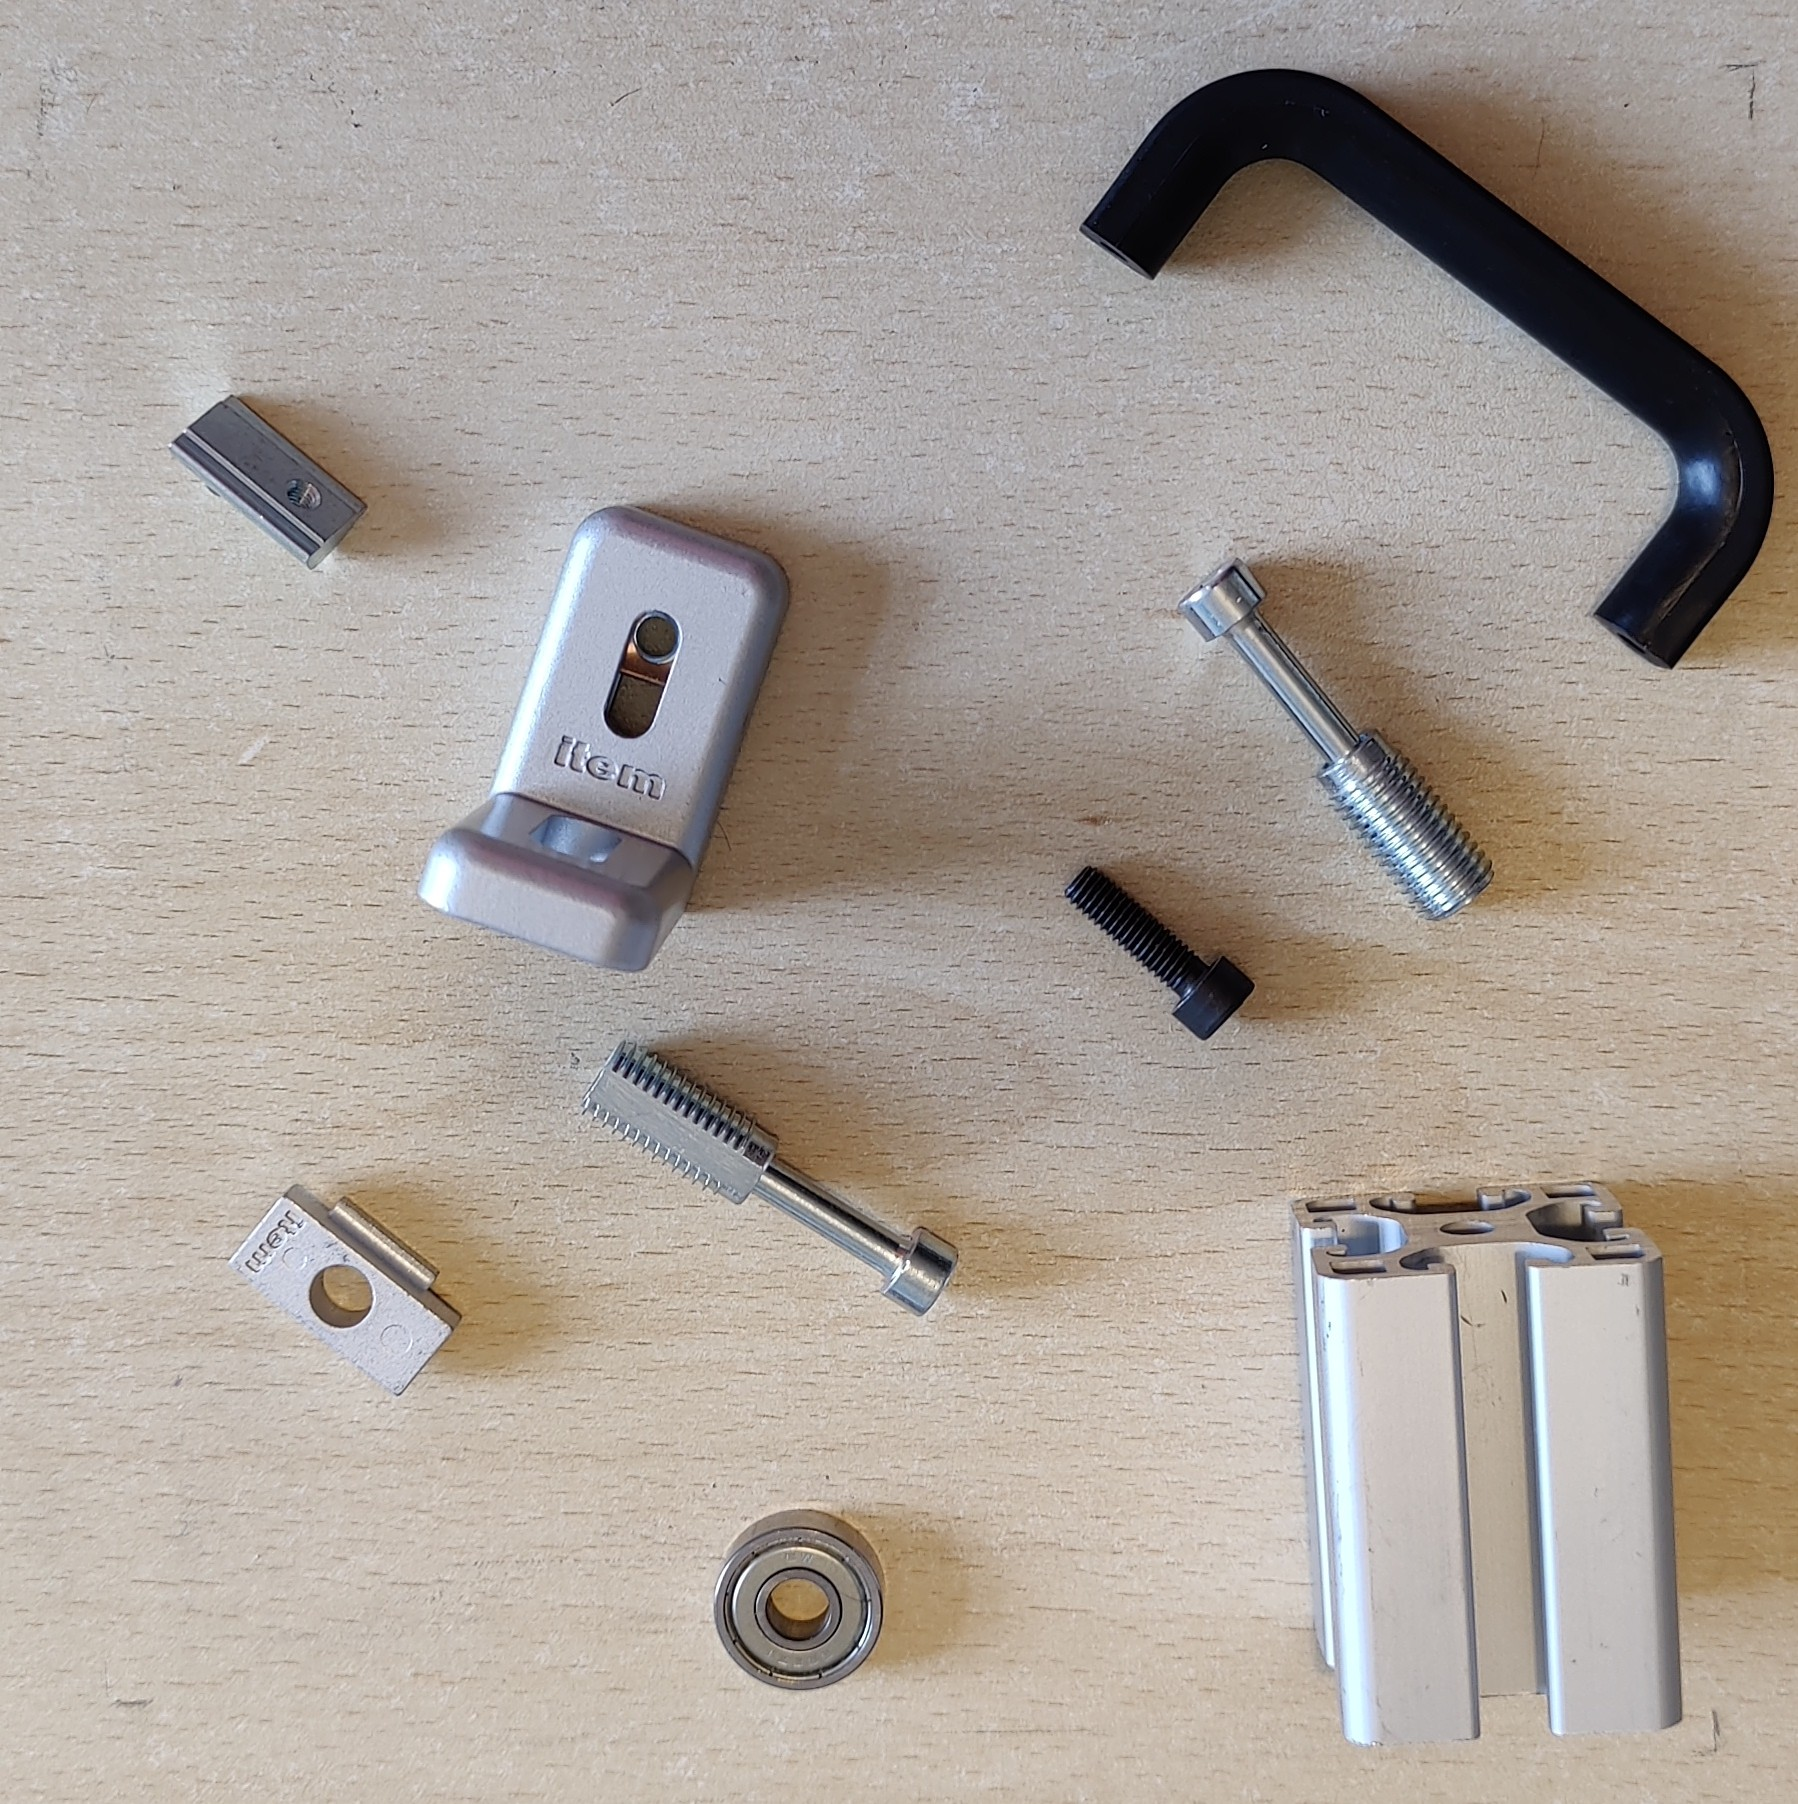Aluminium Extension: (1288, 1177, 1688, 1750)
Ball Bearing: (710, 1508, 889, 1694)
Multiwinkel: (415, 500, 794, 974)
Pull Handle: (1077, 66, 1777, 670)
Shoulder Socket Head Cap Screw: (1172, 553, 1497, 925), (576, 1039, 962, 1318)
Socket Head Cap Screw: (1059, 862, 1256, 1044)
T Nut Square: (226, 1177, 466, 1399)
T Spring Nut: (166, 392, 370, 573)
